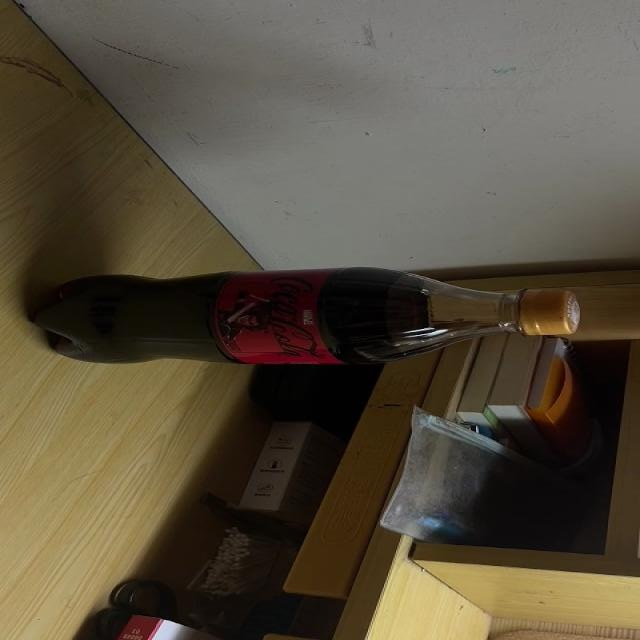Coca-Cola: (25, 264, 582, 365)
